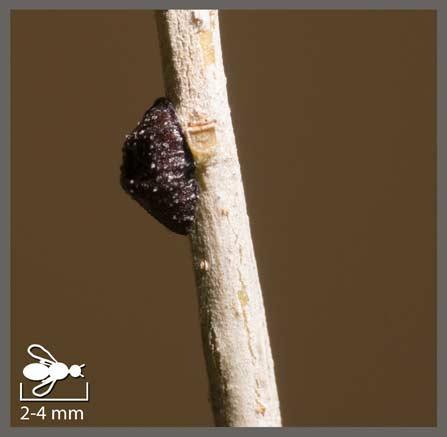BlackScale: (112, 94, 212, 241)
